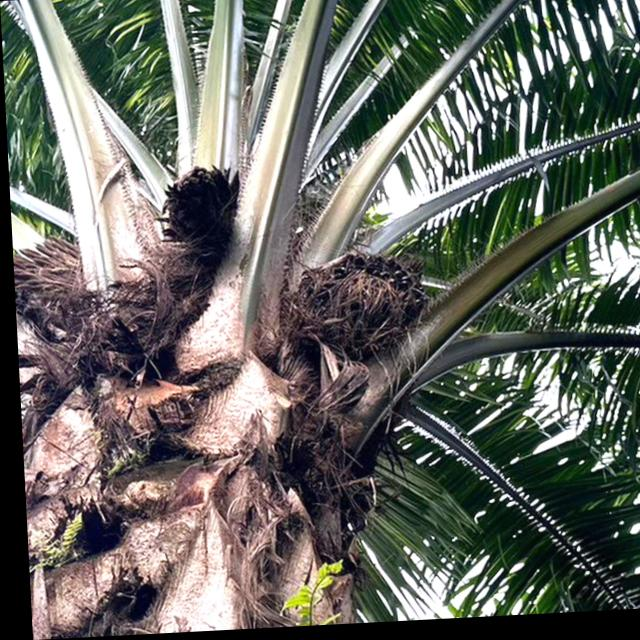almost: (288, 243, 425, 377)
